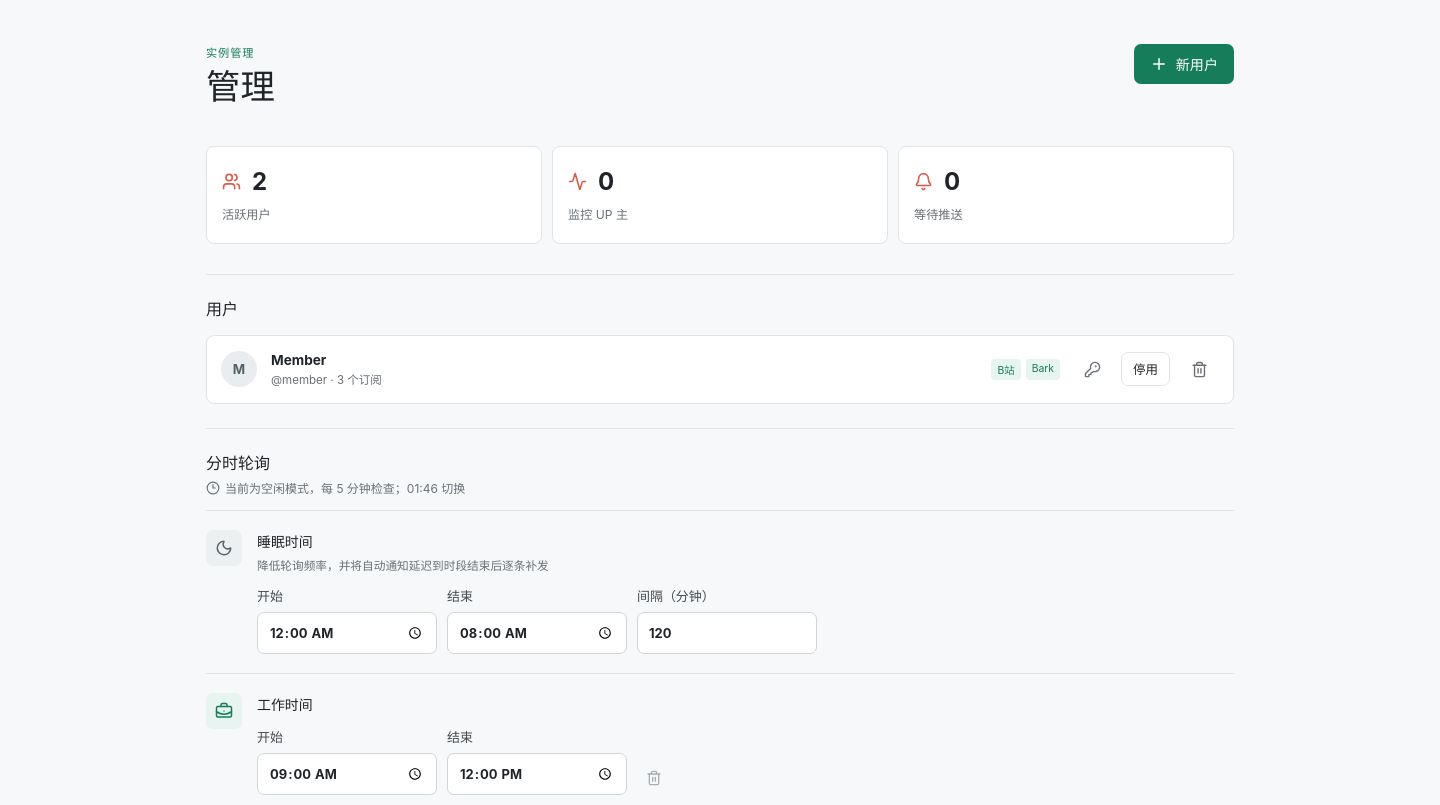
Scenario: AdminView › requires an exact username before permanently deleting a user
Step 1. Click the button titled "永久删除用户" → (1199, 369), box [1179, 349, 1219, 389]
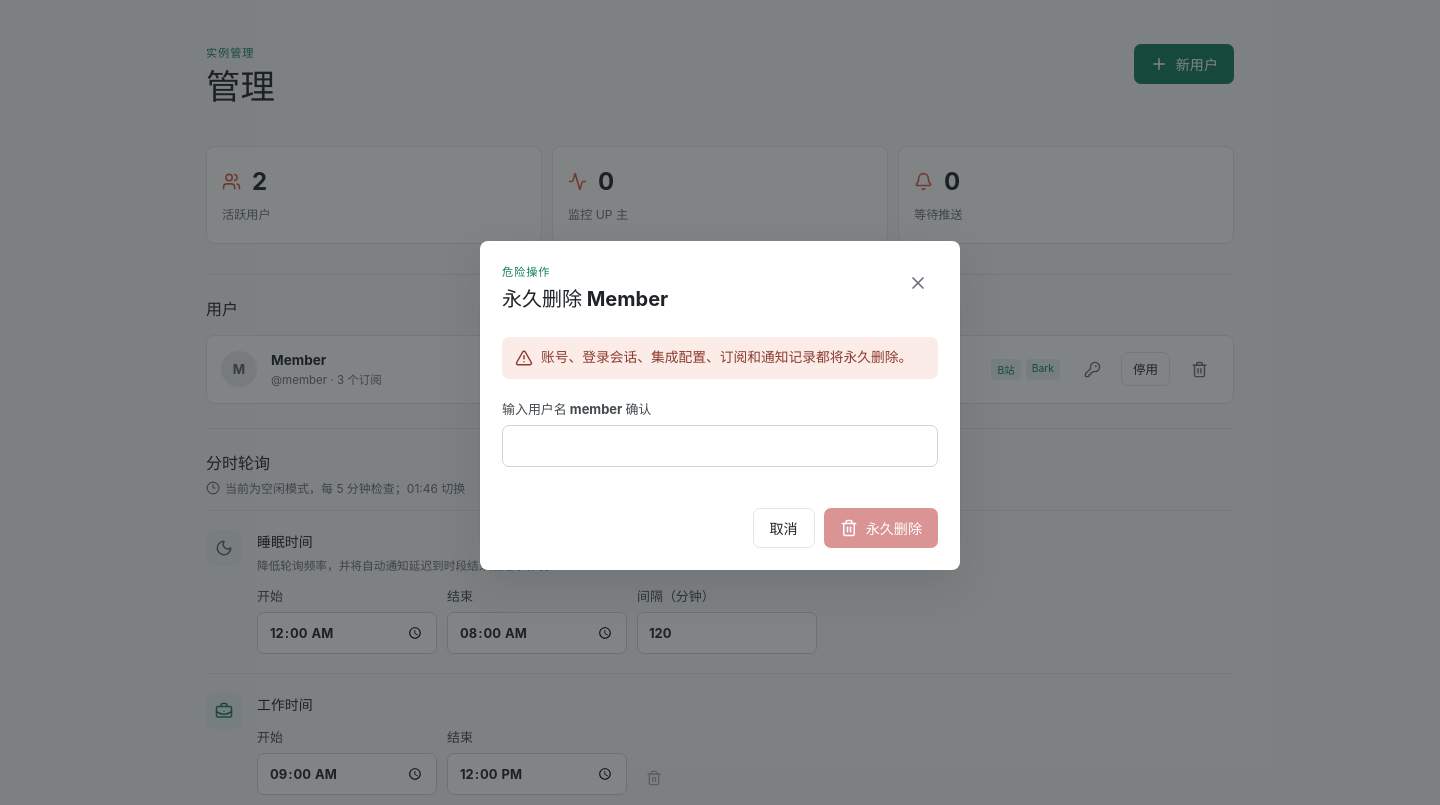
Now the button with class "destructive-action" is disabled, box [824, 508, 938, 548]
Step 2. Type "member" into the field labelled "输入用户名 member 确认" → (720, 446), box [502, 424, 938, 466]
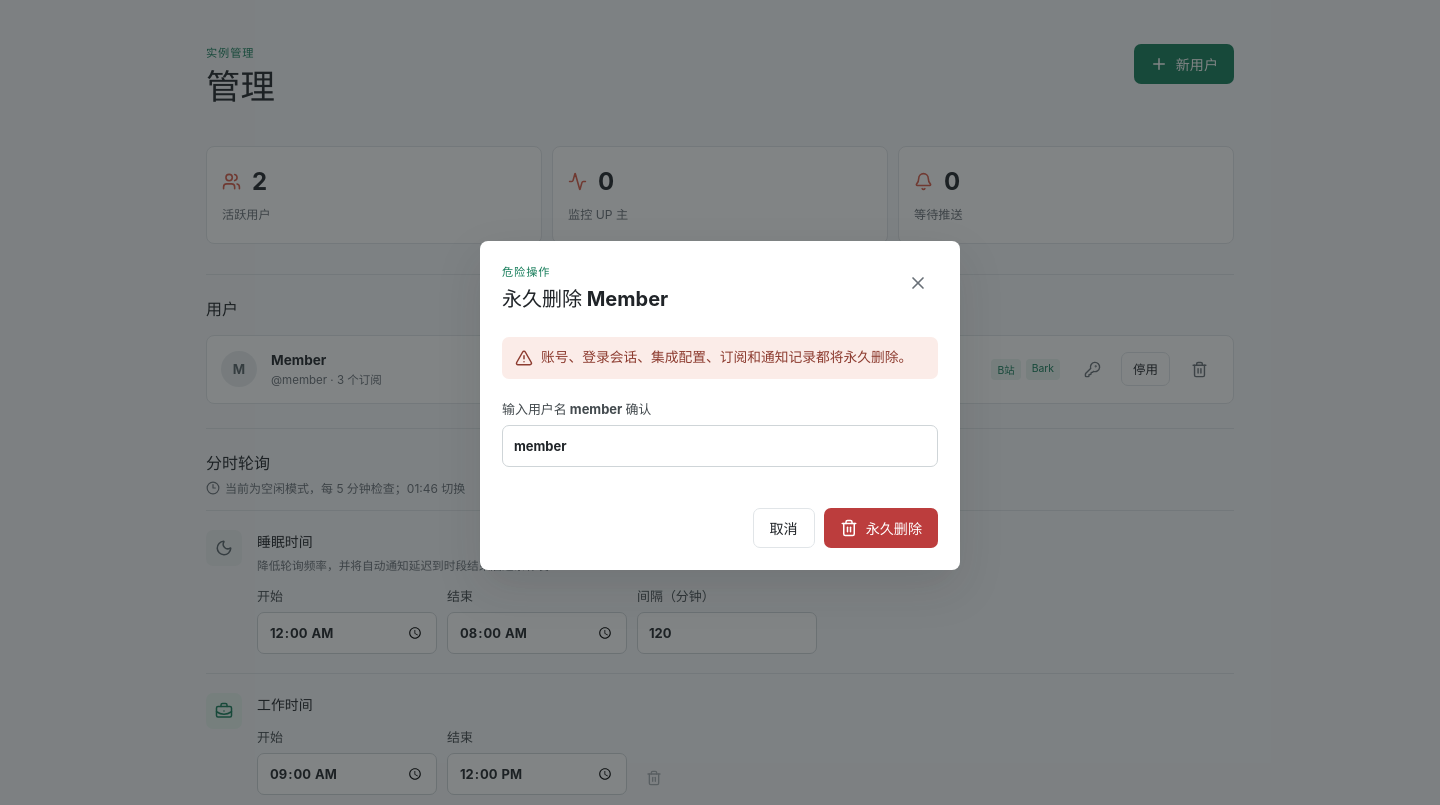
Now the button with class "destructive-action" is enabled, box [824, 508, 938, 548]
Step 3. Submit the form, box [502, 398, 938, 548]
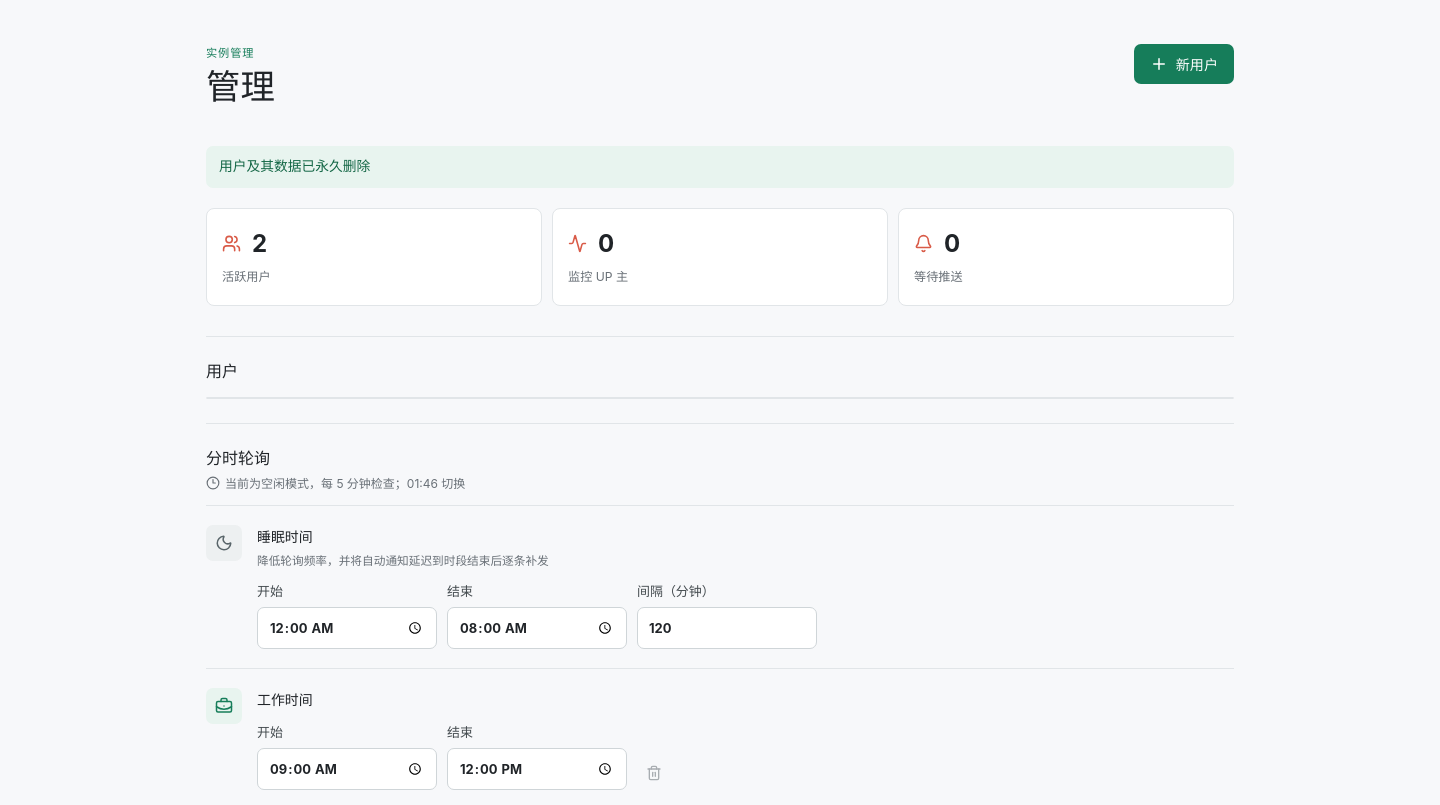
Now the text "用户及其数据已永久删除" is shown, box [206, 146, 1234, 188]
